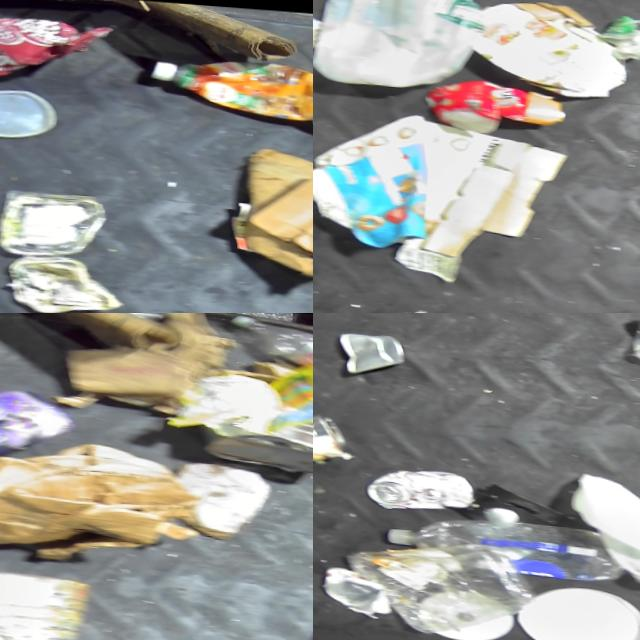can: (419, 76, 566, 139), (357, 464, 474, 515), (329, 330, 408, 380), (313, 409, 352, 470)
milk_jug: (313, 0, 484, 93), (554, 470, 640, 593)
plastic_bottle: (372, 509, 629, 587), (228, 319, 313, 377)
